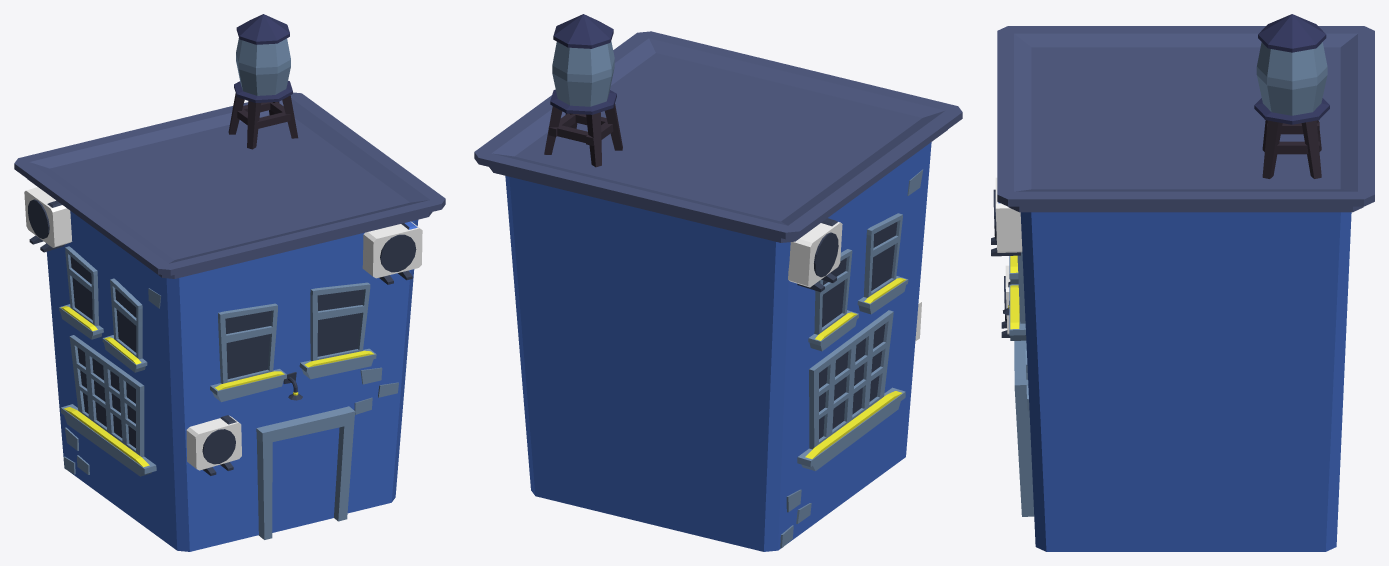
File: building 2.fbx
The picture shows the model from 3 angles, left to right: view 1: azimuth 30°, elevation 25°; view 2: azimuth 150°, elevation 25°; view 3: azimuth 270°, elevation 25°; orthographic projection. The views are drawn at different scales.
Visible parts, largest first — view 1: Cube.023, Circle; view 2: Cube.023, Circle; view 3: Cube.023, Circle.
Boxes of the visible parts, box(x1,y1,x2,y2) form: Cube.023: box(14, 92, 445, 551); Circle: box(228, 14, 298, 149); Cube.023: box(474, 31, 962, 551); Circle: box(544, 14, 622, 167); Cube.023: box(991, 26, 1374, 551); Circle: box(1254, 14, 1329, 178).
Size of the model in its own units: 4252 by 5894 by 3949.
